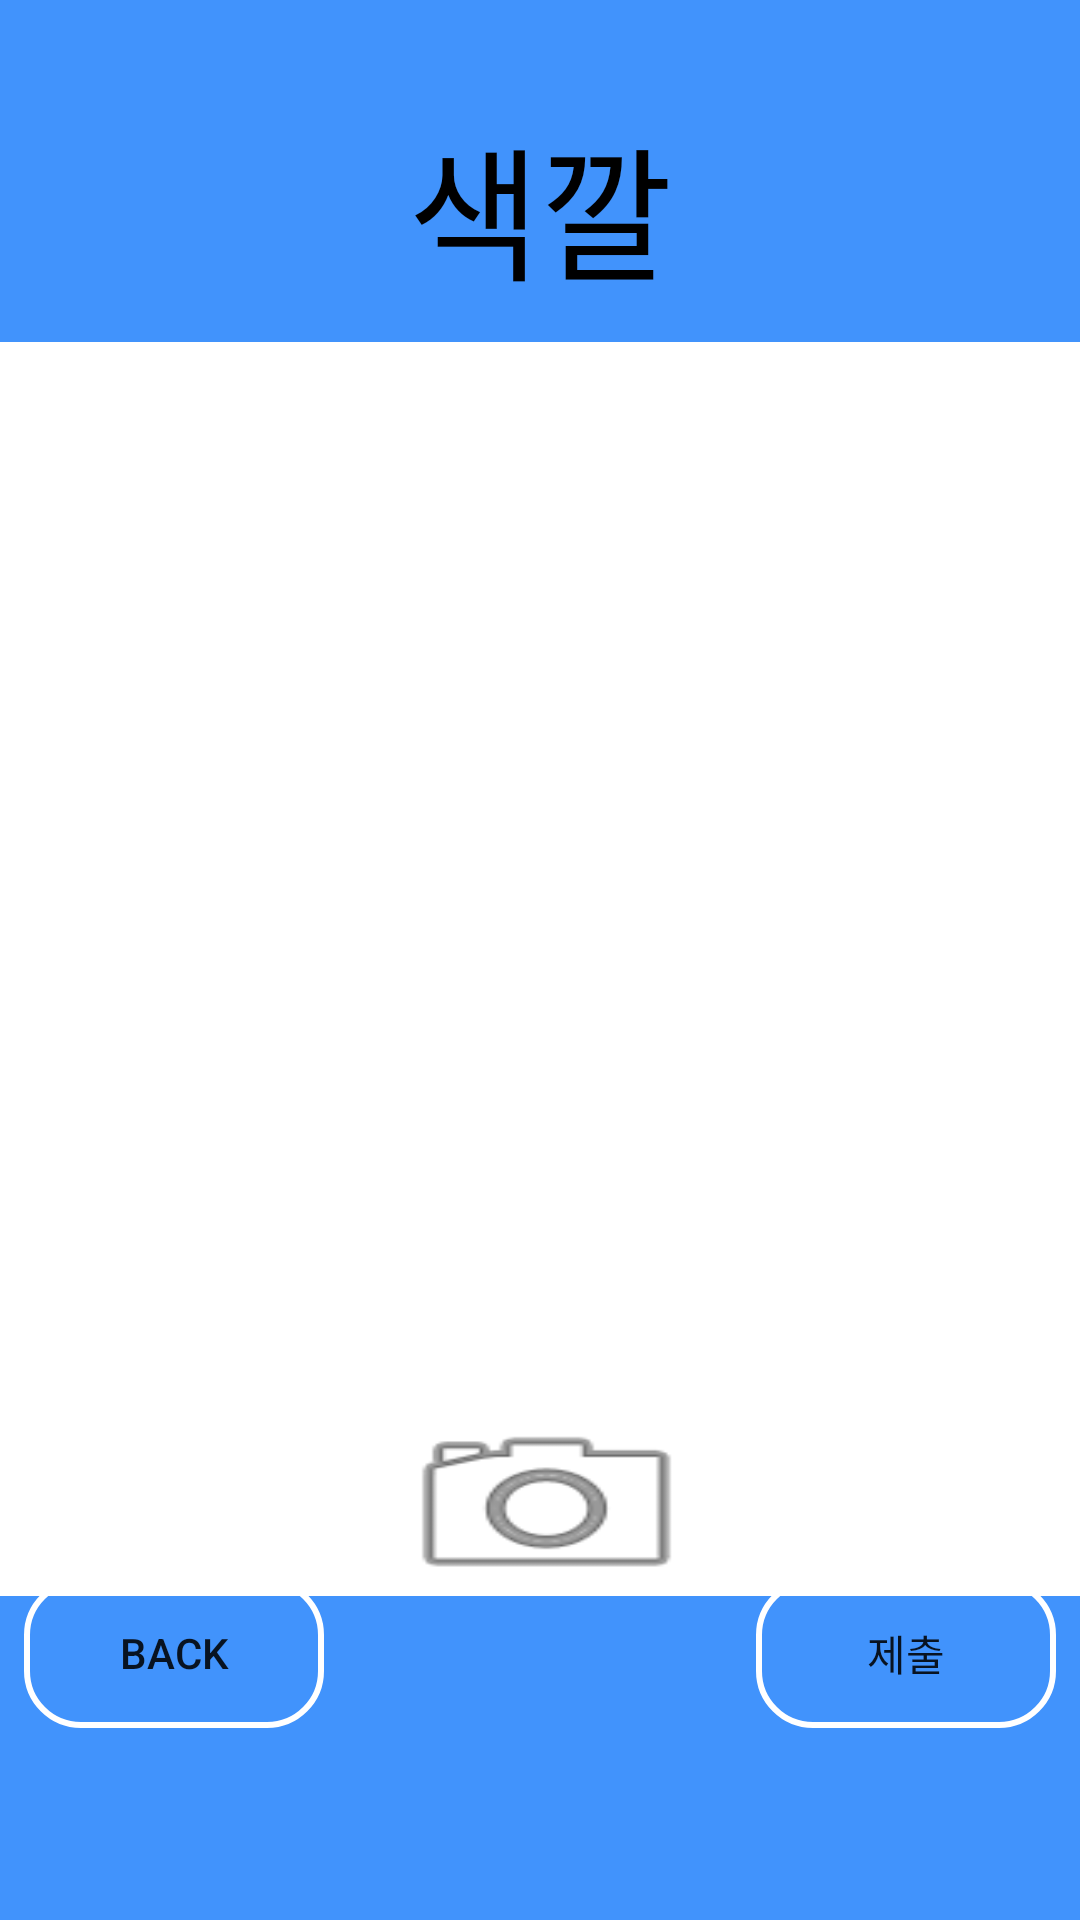

Icons on this 1080w x 1920h Android screen, each with the point to tap as [x,y]:
camera: [546,1502]
